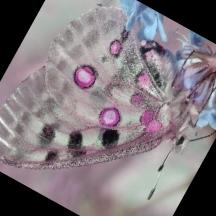butterfly: (0, 5, 193, 168)
